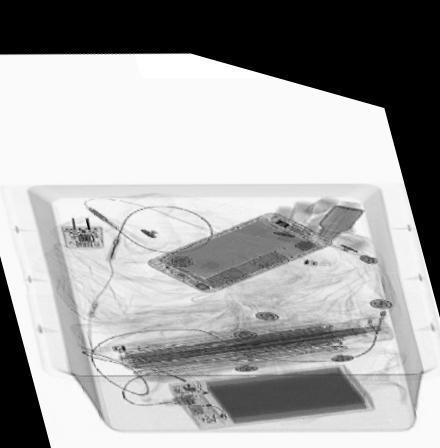Powerbank: (164, 343, 381, 420)
